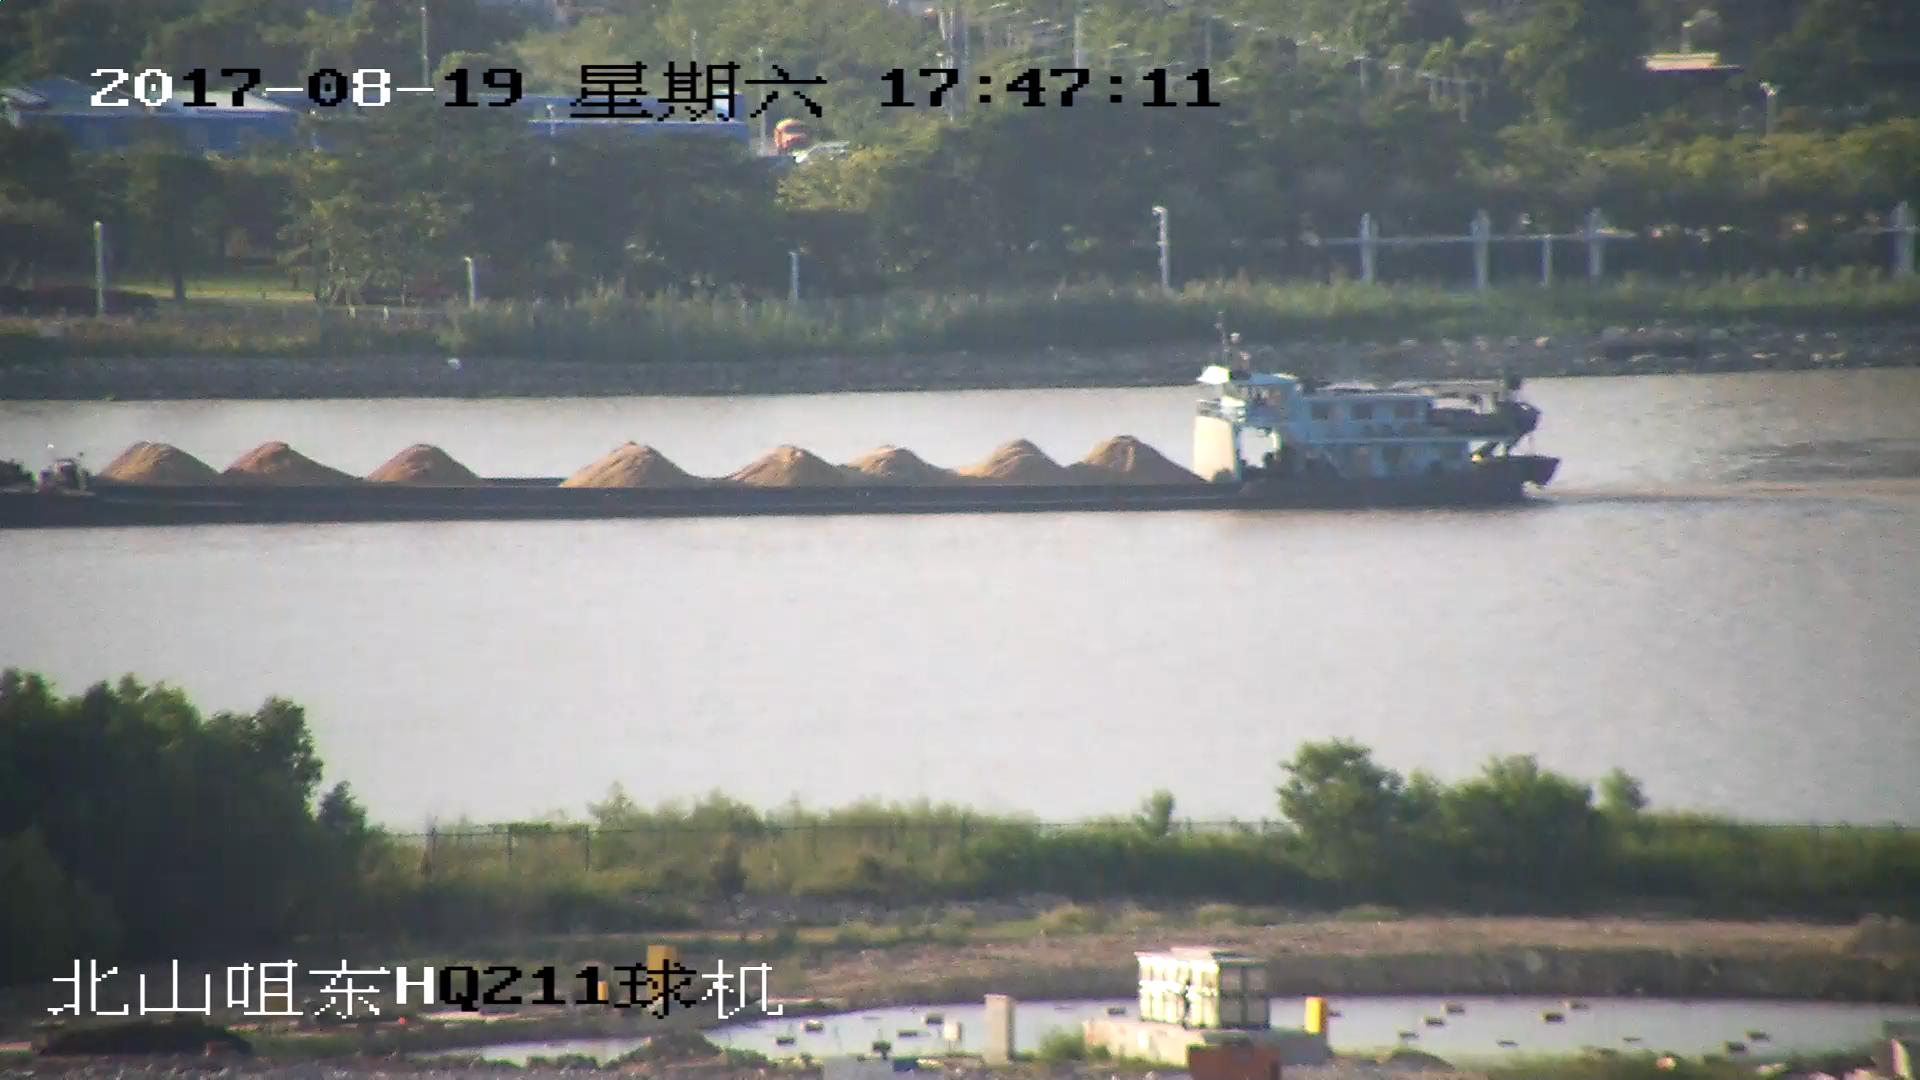ore carrier: (1, 322, 1554, 528)
